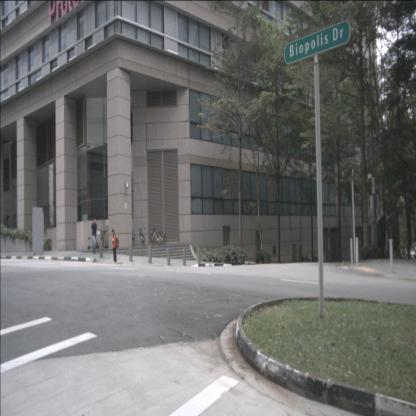human-pedestrian-adult: (111, 229, 119, 264), (90, 217, 97, 254)
vehicle-bicycle: (149, 227, 167, 247), (139, 228, 146, 248)
